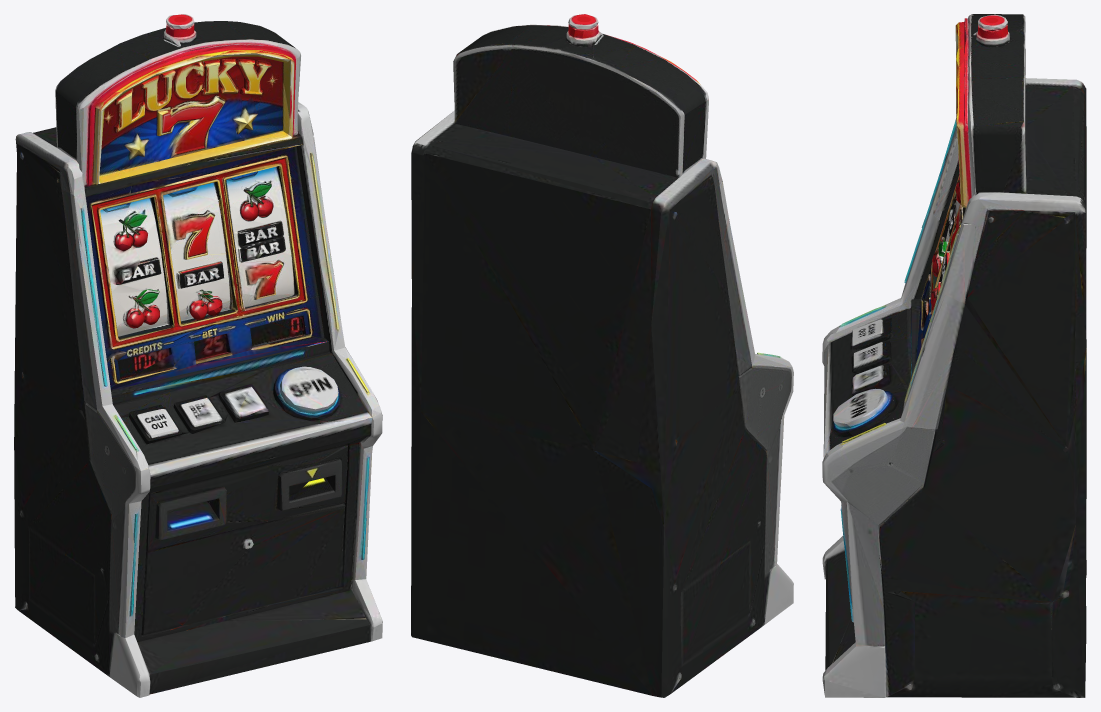
The model's file is slot_machine.glb.
3 renders of one model, left to right at view 1: azimuth 30°, elevation 25°; view 2: azimuth 150°, elevation 25°; view 3: azimuth 270°, elevation 25°, orthographic. The views are drawn at different scales.
Bounding box in the file's own units: 0.838 × 1.9 × 0.7397.
Materials: 1 (1 with a texture image).
